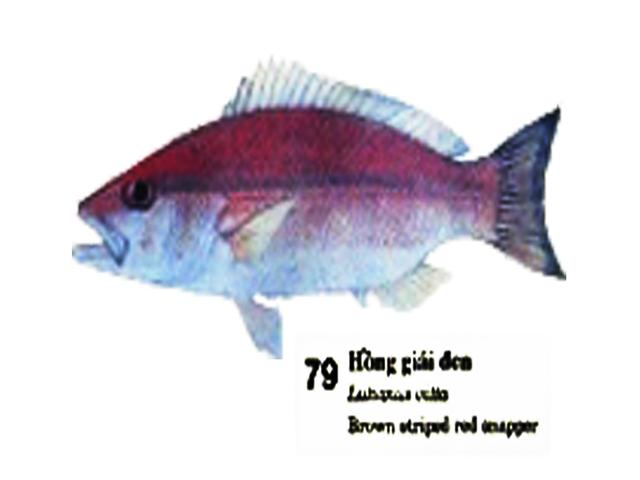fish: (24, 31, 573, 343)
